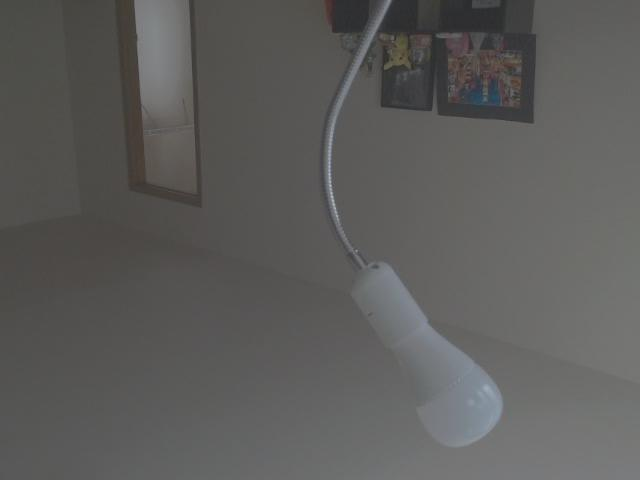Fan: (391, 319, 502, 447)
